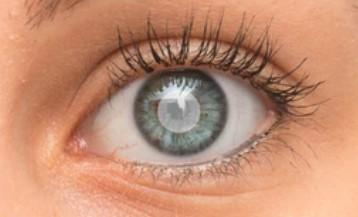eye: (133, 69, 228, 157)
